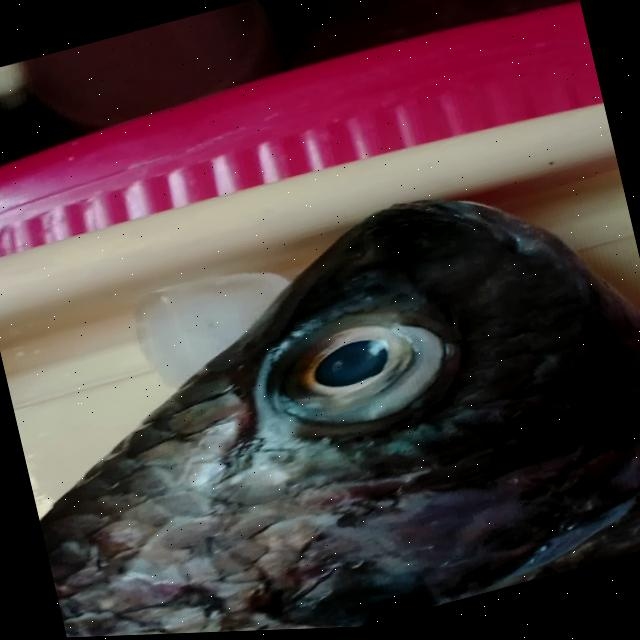Fresh: (220, 281, 495, 463)
